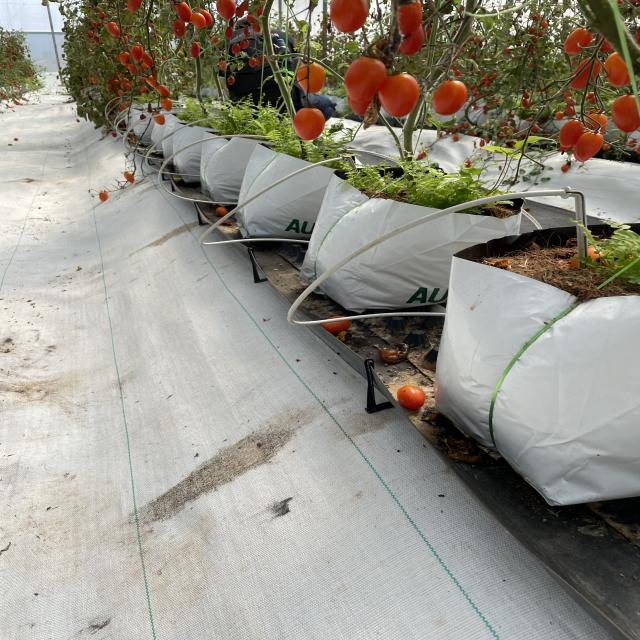Soilbag: (423, 224, 635, 518), (292, 164, 516, 308), (233, 139, 349, 243)
plant: (348, 0, 551, 175), (257, 0, 312, 160)
